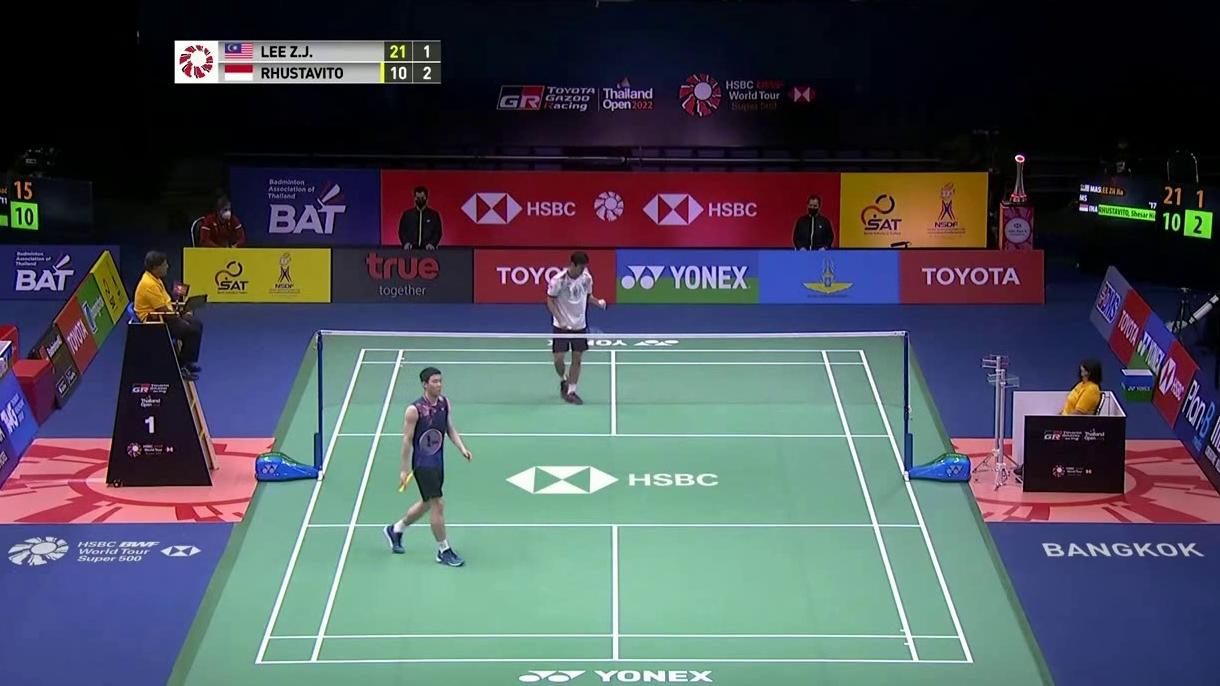racket: (401, 429, 442, 493), (566, 323, 606, 335)
shuttle: (598, 298, 606, 308)
